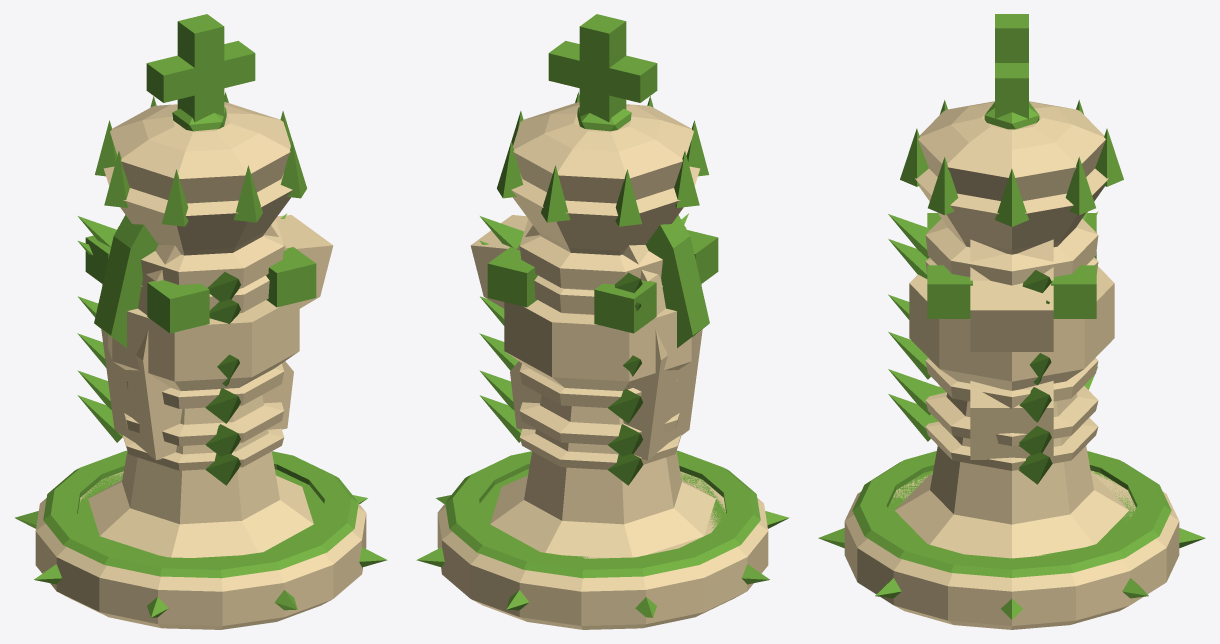
Rendered from wood.glb.
3 views of the same model, side by side, from view 1: azimuth 30°, elevation 25°; view 2: azimuth 150°, elevation 25°; view 3: azimuth 270°, elevation 25° (orthographic).
Visible parts, largest first — view 1: K, disc, R, N, Q, B, P; view 2: K, disc, R, N, Q, B, P; view 3: disc, K, R, N, Q, B, P.
Part boxes in pixels (x1,y1,x2,y2): K: [78, 14, 290, 524]; disc: [14, 450, 387, 629]; R: [77, 235, 316, 423]; N: [77, 215, 333, 485]; Q: [78, 92, 306, 324]; B: [78, 236, 313, 557]; P: [77, 370, 284, 456]; K: [480, 14, 693, 524]; disc: [416, 450, 789, 629]; R: [479, 230, 718, 423]; N: [470, 215, 709, 485]; Q: [480, 92, 708, 314]; B: [480, 236, 715, 557]; P: [479, 370, 679, 456]; disc: [818, 451, 1205, 629]; K: [888, 14, 1105, 524]; R: [888, 213, 1114, 422]; N: [888, 239, 1098, 484]; Q: [888, 100, 1123, 303]; B: [888, 234, 1128, 558]; P: [888, 369, 1098, 455].
Bounding box in the file's own units: 1.02 × 1.58 × 1.02.
